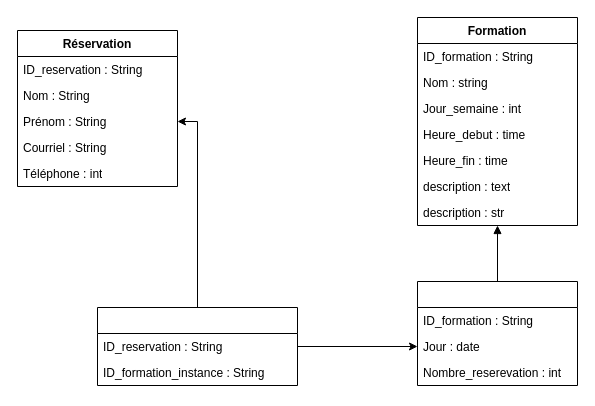
Some shapes in this 595 by 406 pixel diagram are drawn without their labels. The box of each missing label's shape, as (x1, y1, x2, y2) in pixels:
Formation instance: (416, 280, 578, 386)
Table_reservation: (96, 306, 298, 386)
